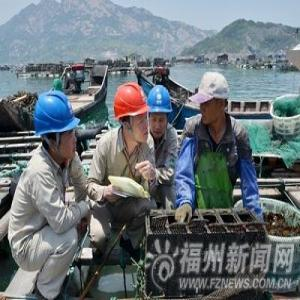blue: (34, 92, 78, 162), (146, 84, 172, 137)
red: (115, 80, 149, 144)
white: (197, 70, 232, 129)
